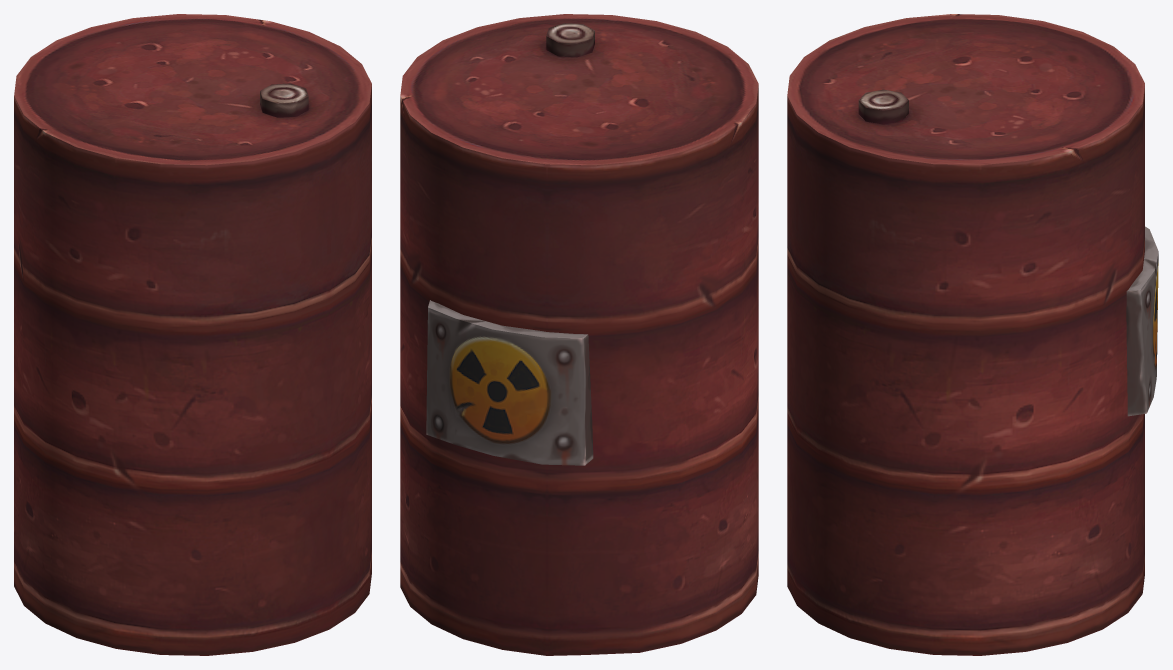
The model's file is Barrel Radioactive 148 Tris.fbx.
3 renders of one model, left to right at view 1: azimuth 30°, elevation 25°; view 2: azimuth 150°, elevation 25°; view 3: azimuth 270°, elevation 25°, orthographic.
Parts seen in each view (by area): view 1: Barrel Radioactive 148 Tris; view 2: Barrel Radioactive 148 Tris; view 3: Barrel Radioactive 148 Tris.
Part boxes in pixels (box(x1,y1,x2,y2)): Barrel Radioactive 148 Tris: box(14, 14, 371, 655); Barrel Radioactive 148 Tris: box(400, 14, 758, 655); Barrel Radioactive 148 Tris: box(787, 14, 1158, 655).
Size of the model in its own units: 388 by 604 by 403.
